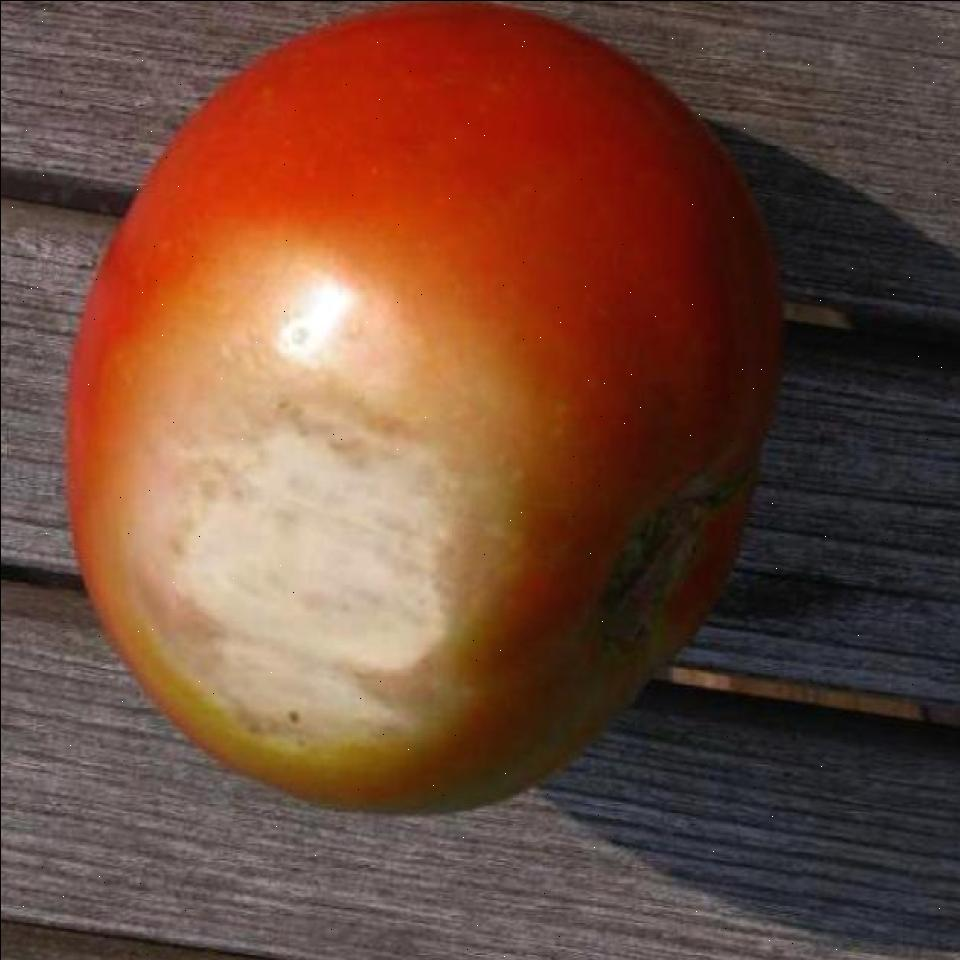Sunscald: (129, 241, 519, 788)
